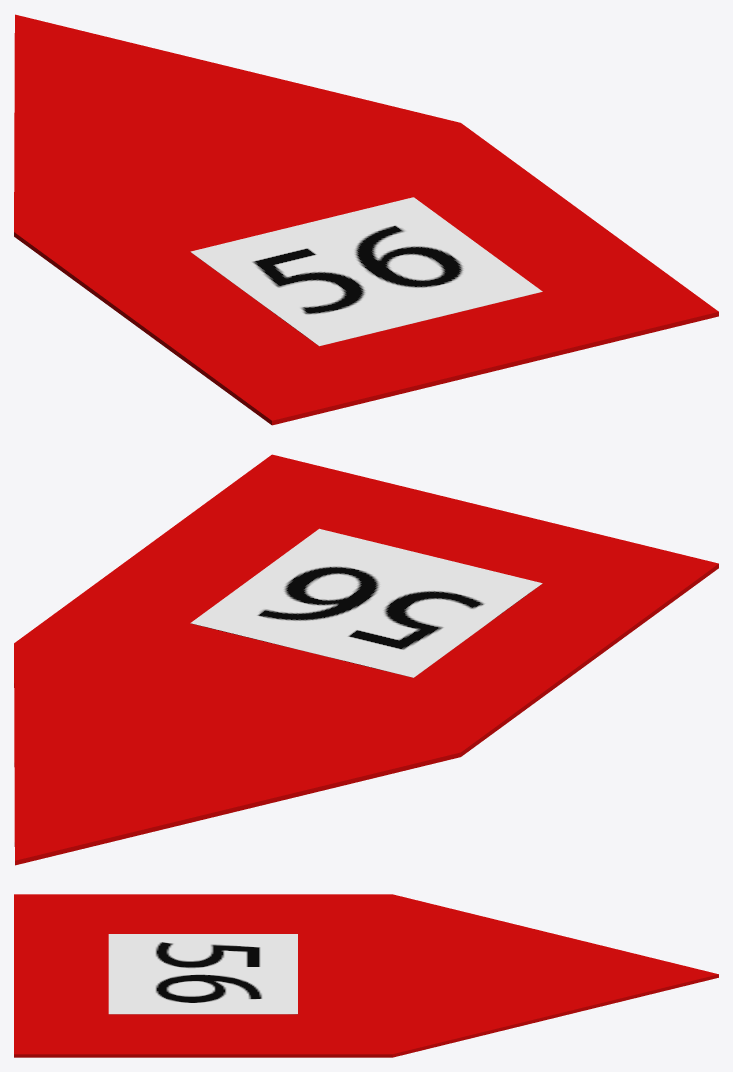
The picture shows the model from 3 angles, top to bottom: view 1: azimuth 30°, elevation 25°; view 2: azimuth 150°, elevation 25°; view 3: azimuth 270°, elevation 25°; orthographic projection. The views are drawn at different scales.
Parts seen in each view (by area): view 1: 立方体, 柱体, 立方体.001; view 2: 立方体, 柱体, 立方体.001; view 3: 立方体, 柱体, 立方体.001.
Part boxes in pixels (x1,y1,x2,y2): 立方体: (14, 123, 718, 425); 柱体: (14, 14, 460, 231); 立方体.001: (190, 197, 542, 346); 立方体: (14, 454, 718, 756); 柱体: (14, 643, 460, 865); 立方体.001: (190, 528, 542, 677); 立方体: (14, 894, 392, 1057); 柱体: (392, 894, 718, 1057); 立方体.001: (108, 934, 297, 1014).
Size of the model in its own units: 2 by 3.72 by 0.022.
Materials: 3 (1 with a texture image).
